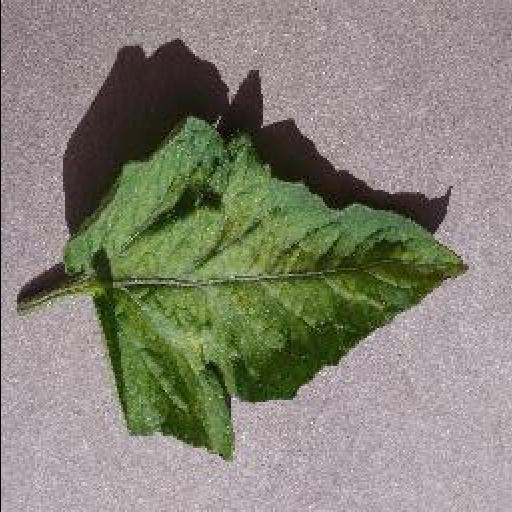disease_tomato: (64, 120, 476, 464)
